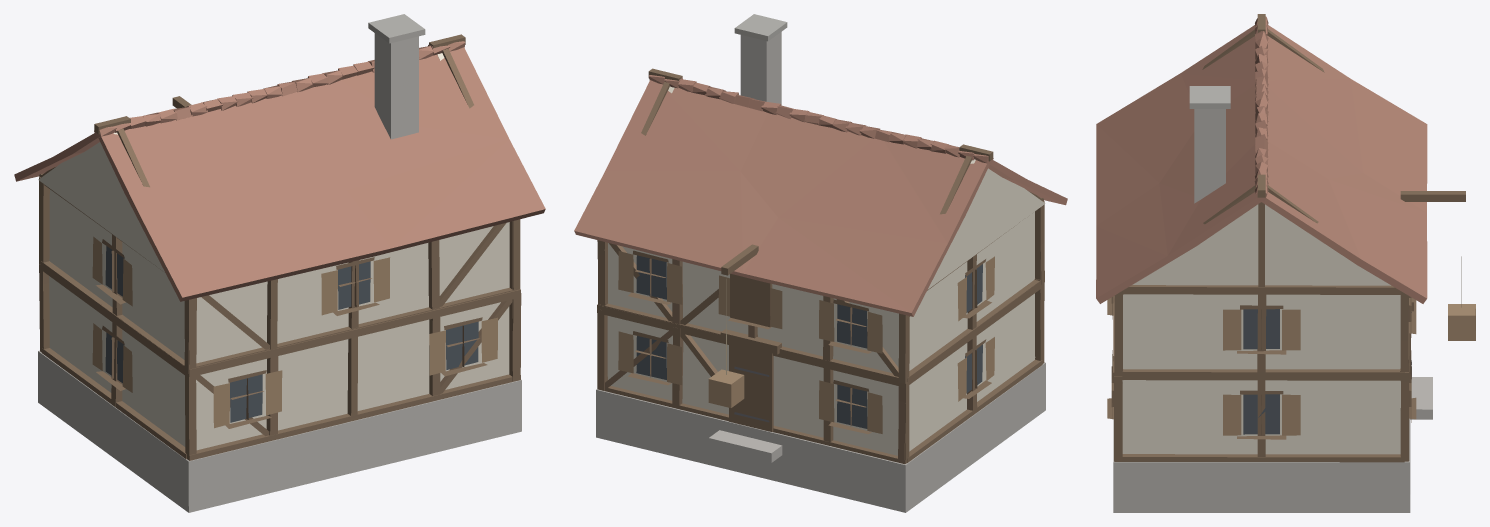
File: kontor_lod1.glb
3 renders of one model, left to right at view 1: azimuth 30°, elevation 25°; view 2: azimuth 150°, elevation 25°; view 3: azimuth 270°, elevation 25°, orthographic. The views are drawn at different scales.
Parts seen in each view (by area): view 1: kontor.001; view 2: kontor.001; view 3: kontor.001.
Boxes of the visible parts, x1,y1,x2,y2 form: kontor.001: [14, 14, 545, 512]; kontor.001: [574, 14, 1067, 512]; kontor.001: [1096, 14, 1475, 512].
Bounding box in the file's own units: 10.2 × 10.31 × 9.29.
